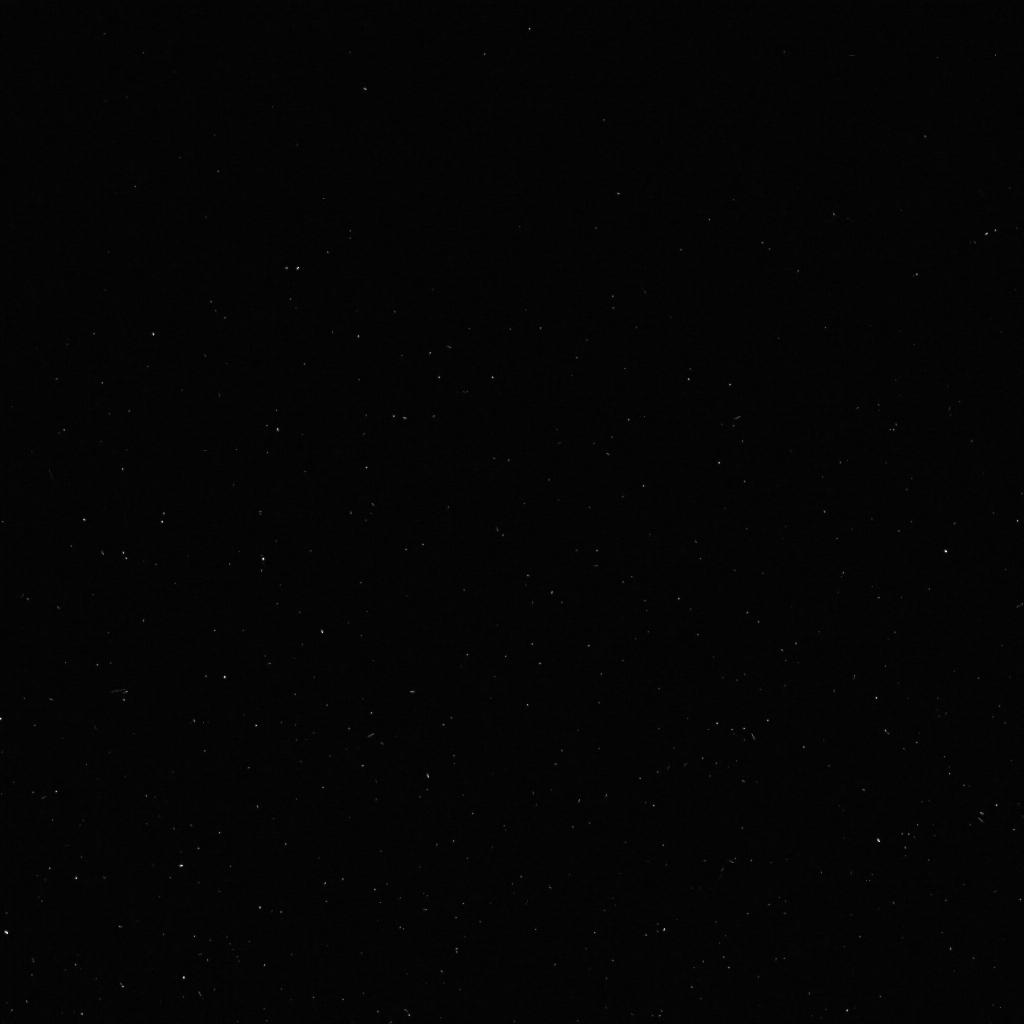Positive: (104, 683, 133, 701), (397, 1003, 420, 1020), (971, 809, 992, 826), (746, 728, 762, 743), (361, 731, 378, 743)
